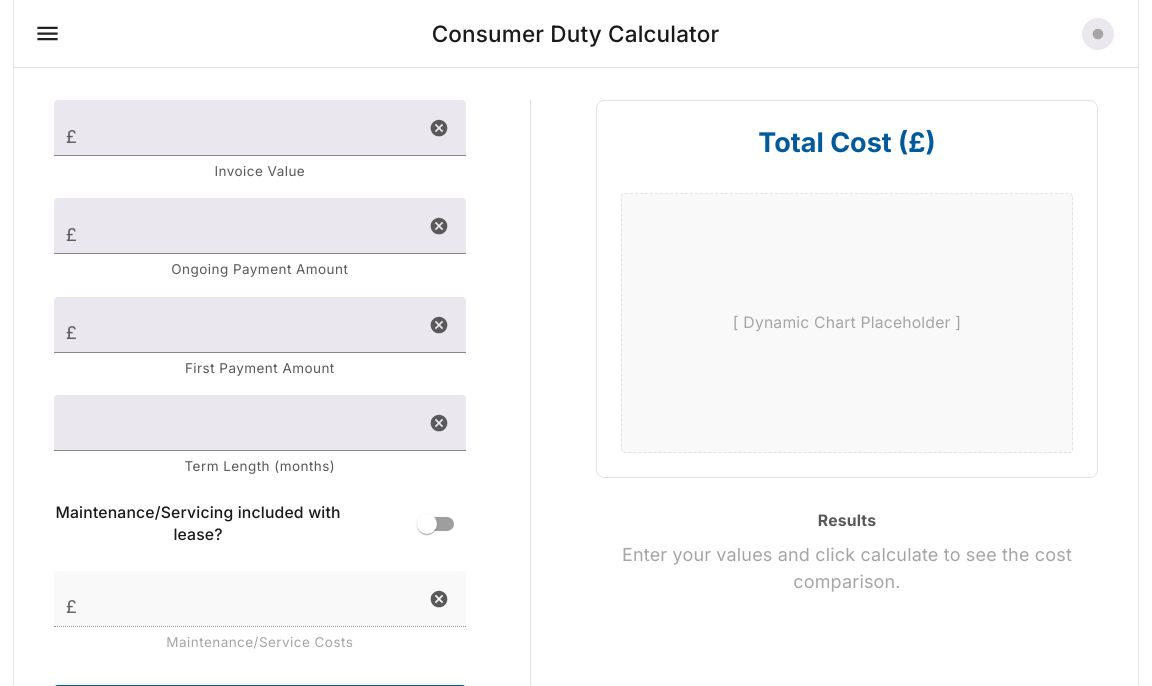
Test: Calculator UI & Maths Logic Suite › should calculate and display correct totals (without maintenance)
This screenshot has width=1152, height=686.
Note: Inject values
Step 1. Type "10000" into the number field named "Invoice Value" → (250, 128), box x1=85 y1=102 x2=416 y2=154
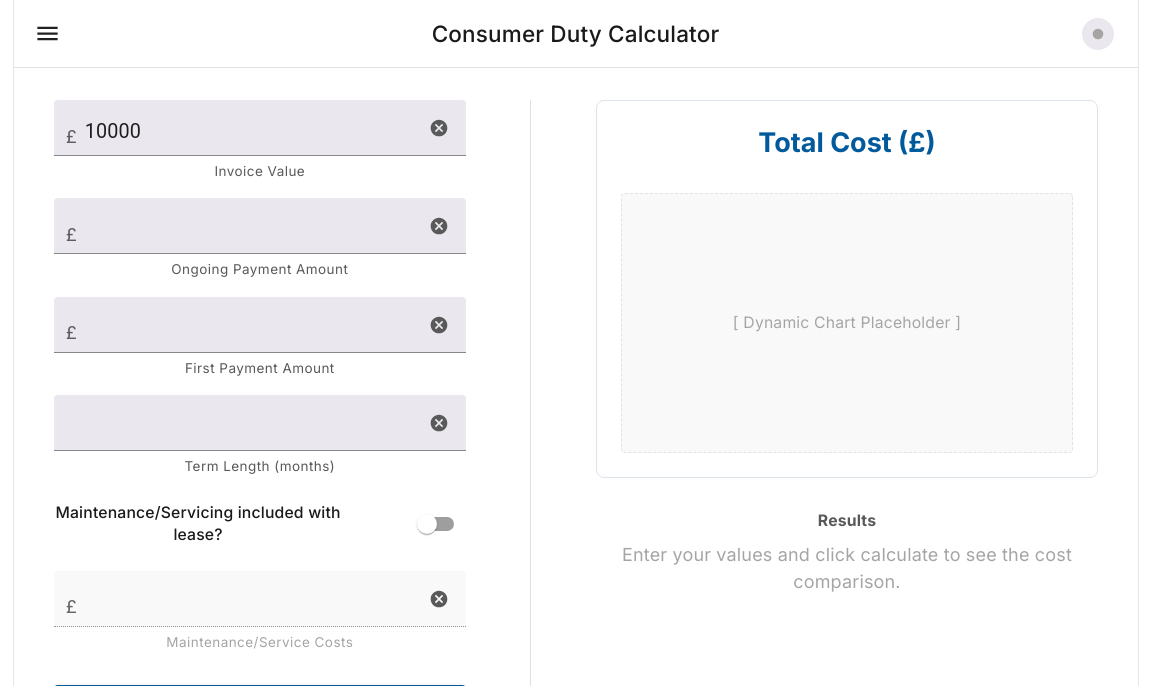
Step 2. Type "300" into the number field named "Ongoing Payment Amount" → (250, 226), box x1=85 y1=200 x2=416 y2=253
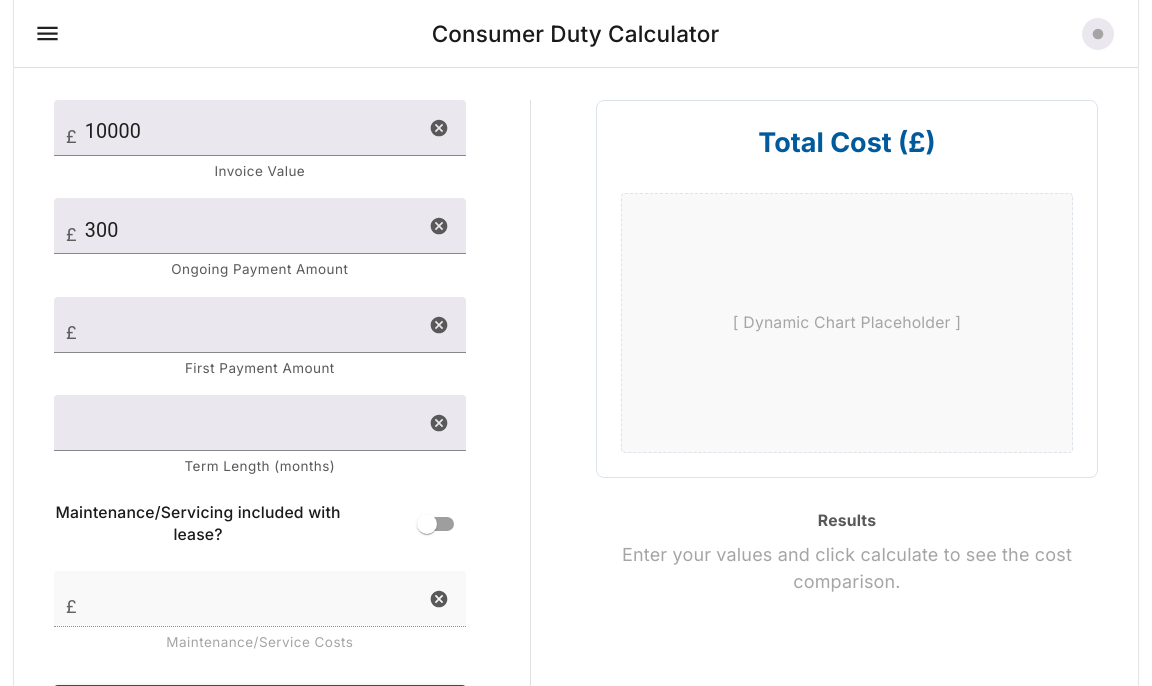
Step 3. Type "500" into the number field named "First Payment Amount" → (250, 325), box x1=85 y1=299 x2=416 y2=351
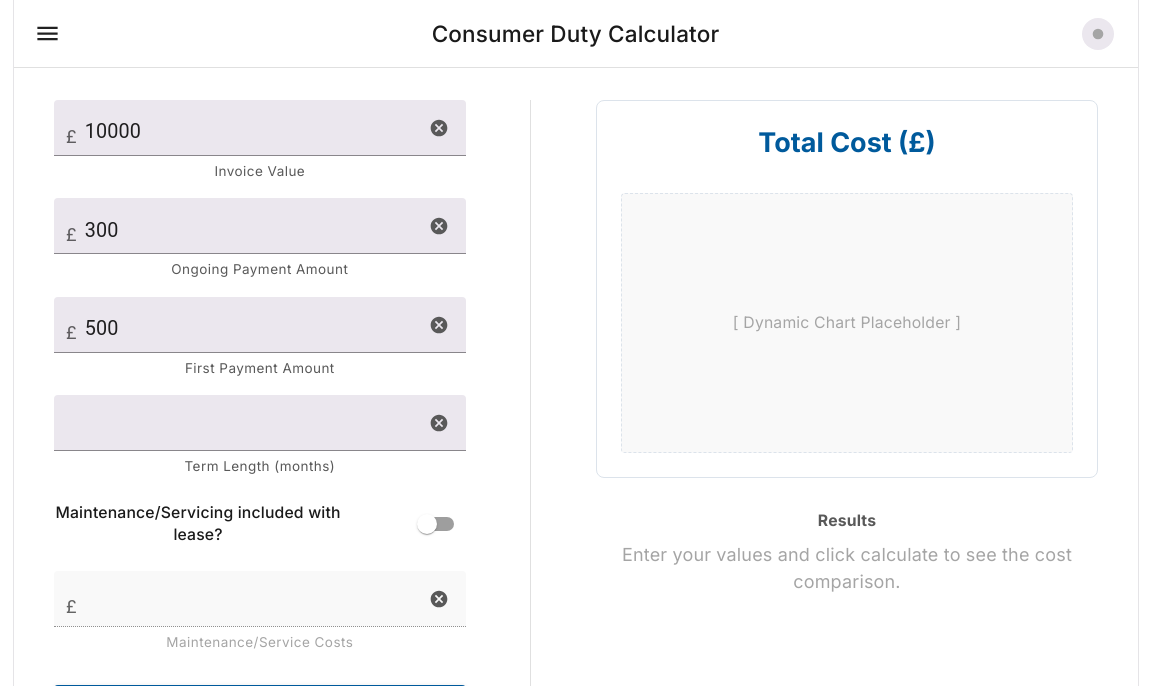
Step 4. Type "36" into the number field named "Term Length (months)" → (235, 423), box x1=54 y1=397 x2=416 y2=450
(page scrolled)
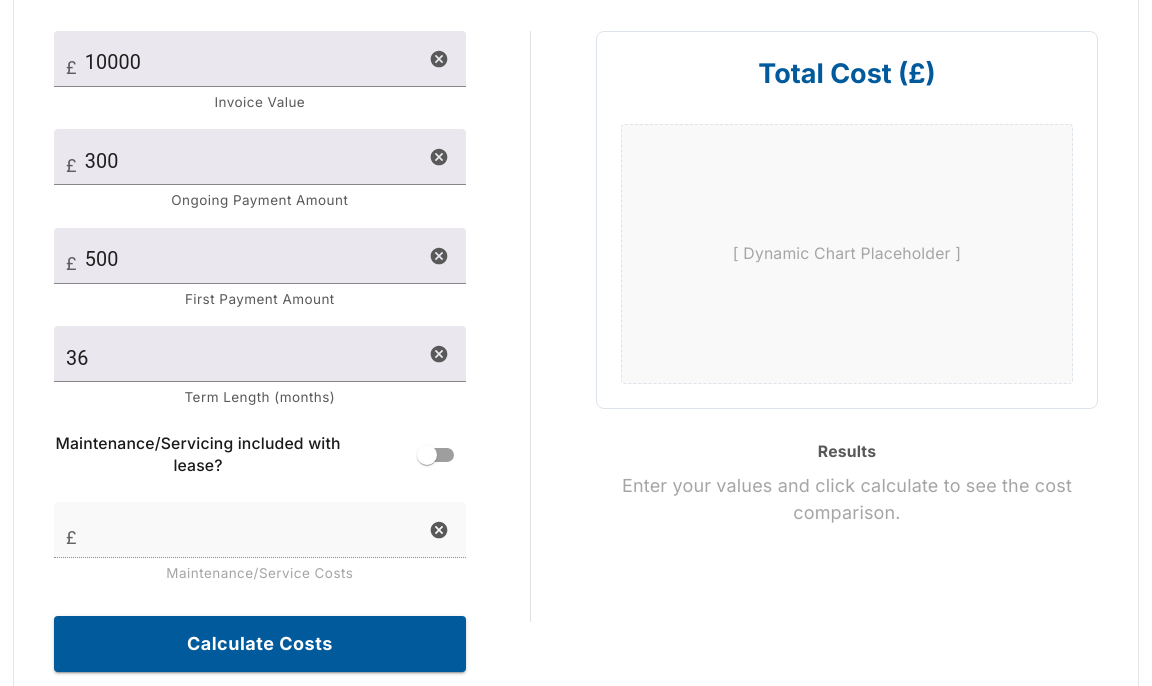
Note: Trigger calcs
Step 5. Click the button "Calculate Costs" → (260, 644), box x1=54 y1=616 x2=466 y2=672
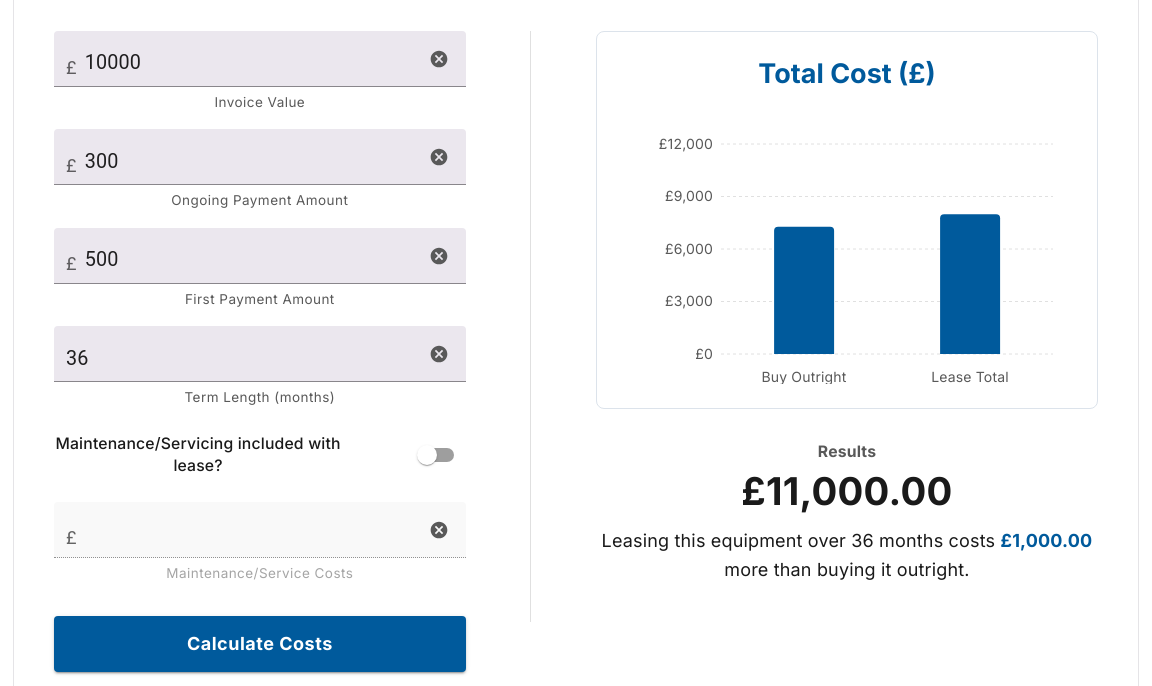
Now the heading "£11,000.00" is shown, box x1=741 y1=468 x2=953 y2=514
Now the text "£1,000.00" is shown, box x1=1000 y1=530 x2=1092 y2=551
